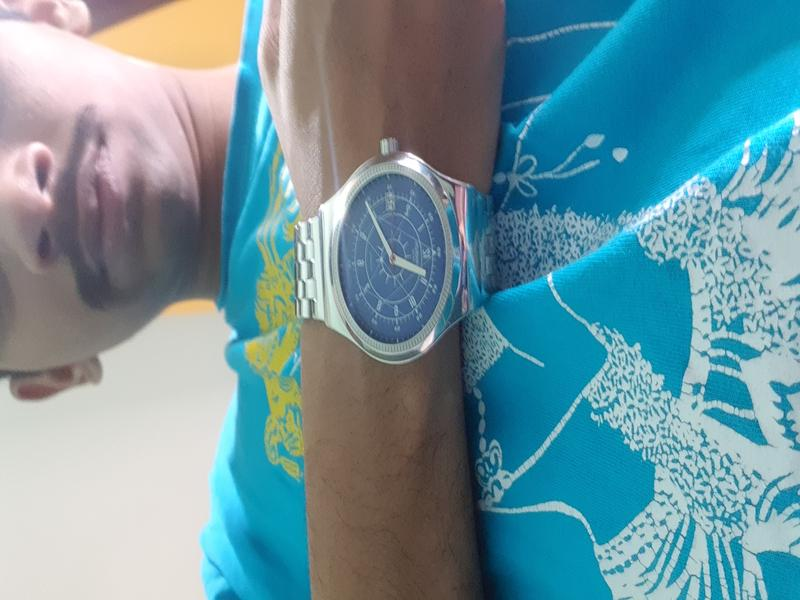watch: (265, 120, 541, 371)
